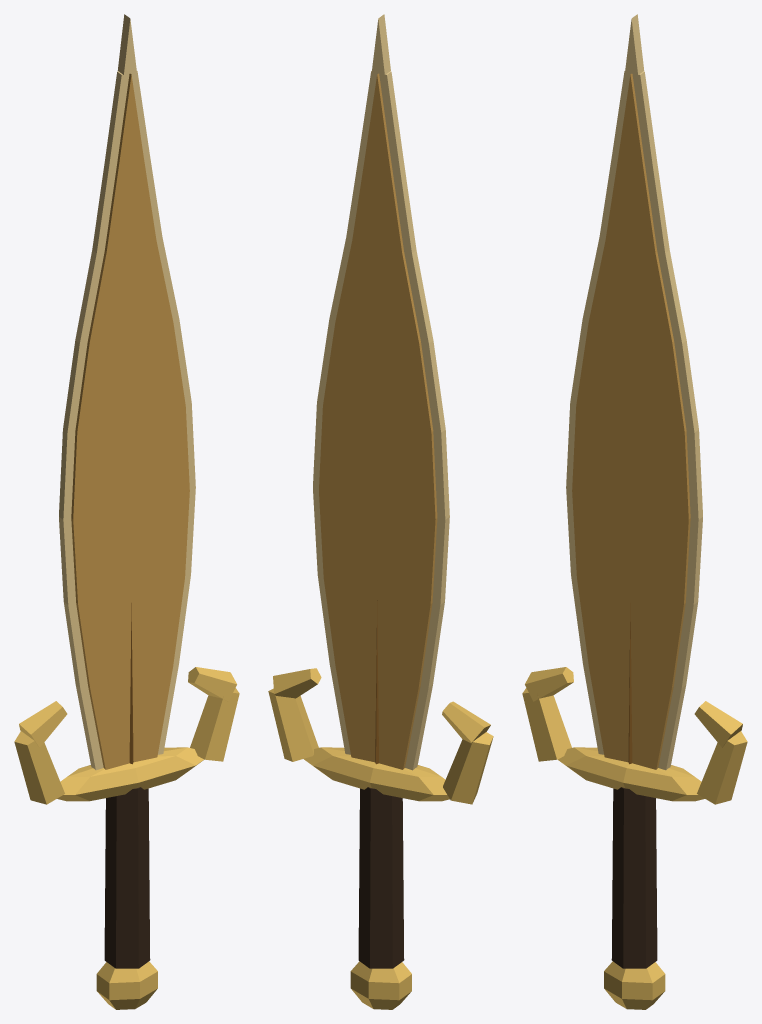
The model's file is barrow_lord_sword.glb.
3 renders of one model, left to right at view 1: azimuth 30°, elevation 25°; view 2: azimuth 150°, elevation 25°; view 3: azimuth 330°, elevation 25°, orthographic.
Parts seen in each view (by area): view 1: barrow_lord_sword; view 2: barrow_lord_sword; view 3: barrow_lord_sword.
Part boxes in pixels (x1,y1,x2,y2): barrow_lord_sword: (14,14,239,1009); barrow_lord_sword: (268,14,493,1009); barrow_lord_sword: (522,14,747,1009).
Size of the model in its own units: 0.3361 by 1.44 by 0.0666.
